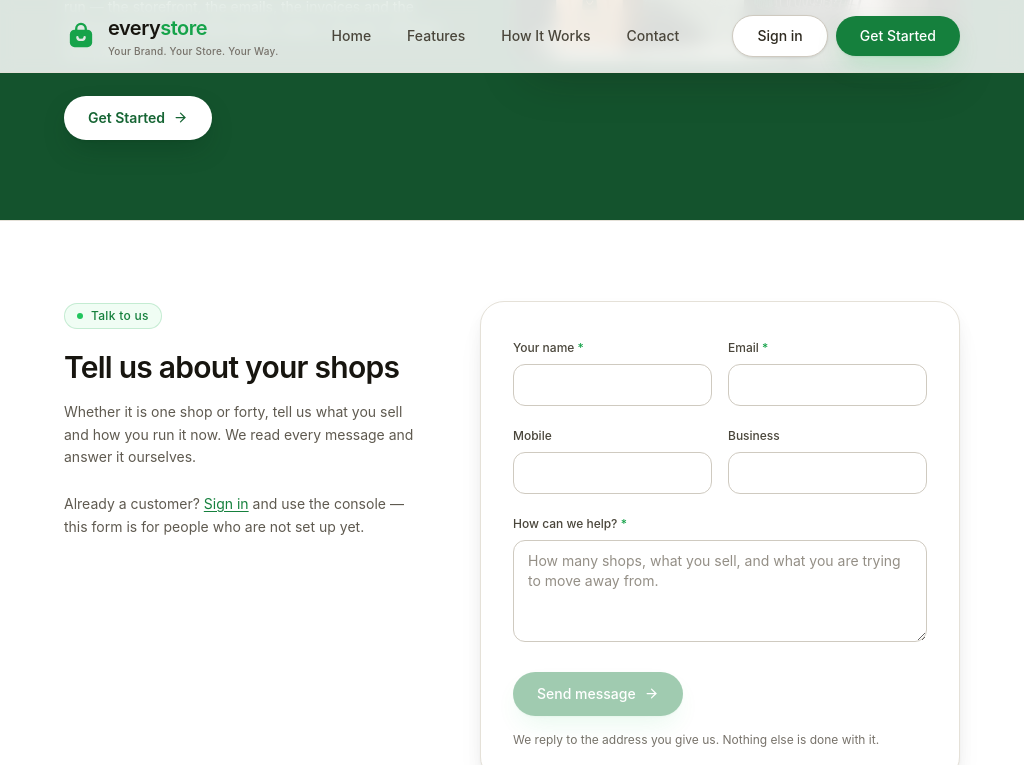
the contact form on the landing page › replaces the form with a confirmation naming the address it will reply to
(page scrolled)
Type "Priya Raman" into the field labelled "Your name *" at (612, 385), box [513,364,712,406]
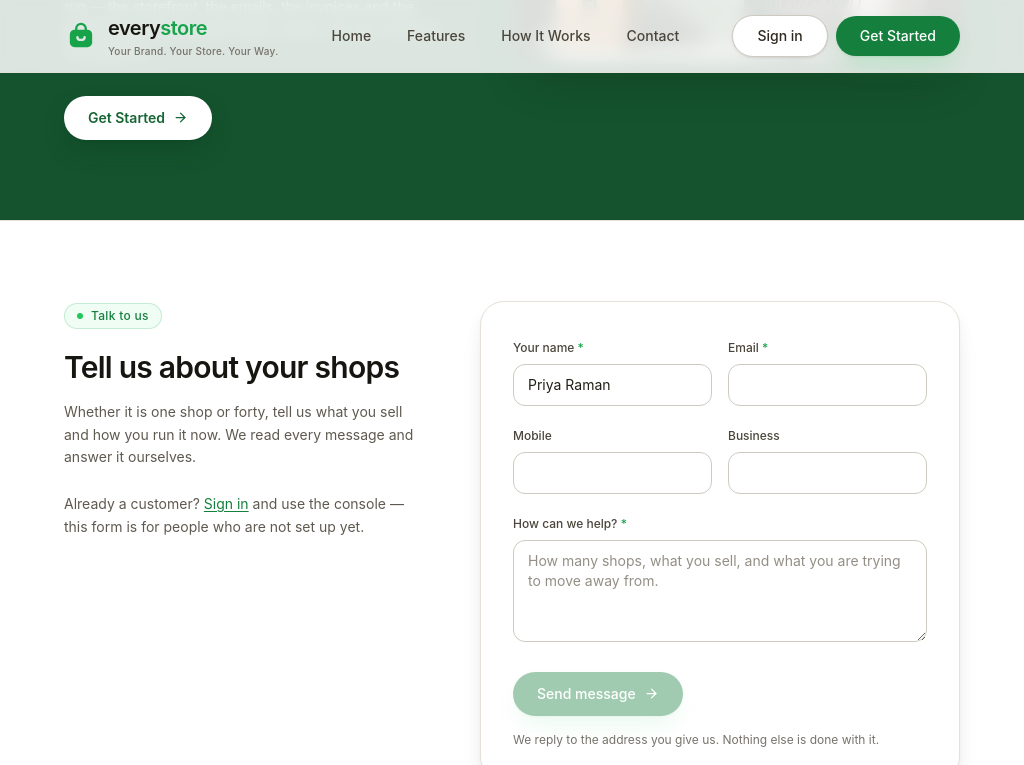
Type "priya@northwind.example" into the field labelled "Email *" at (828, 385), box [728,364,927,406]
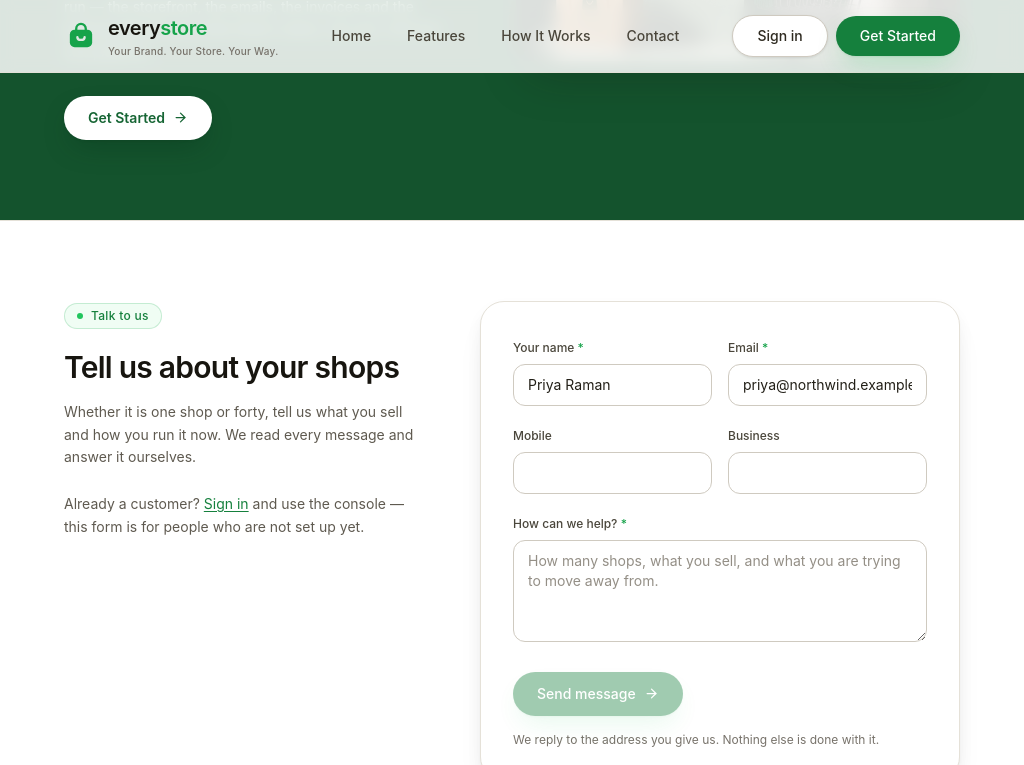
Replace the text in the text box labelled "How can we help? *" with "We run four shops and would like a demo." at (720, 591), box [513,540,927,642]
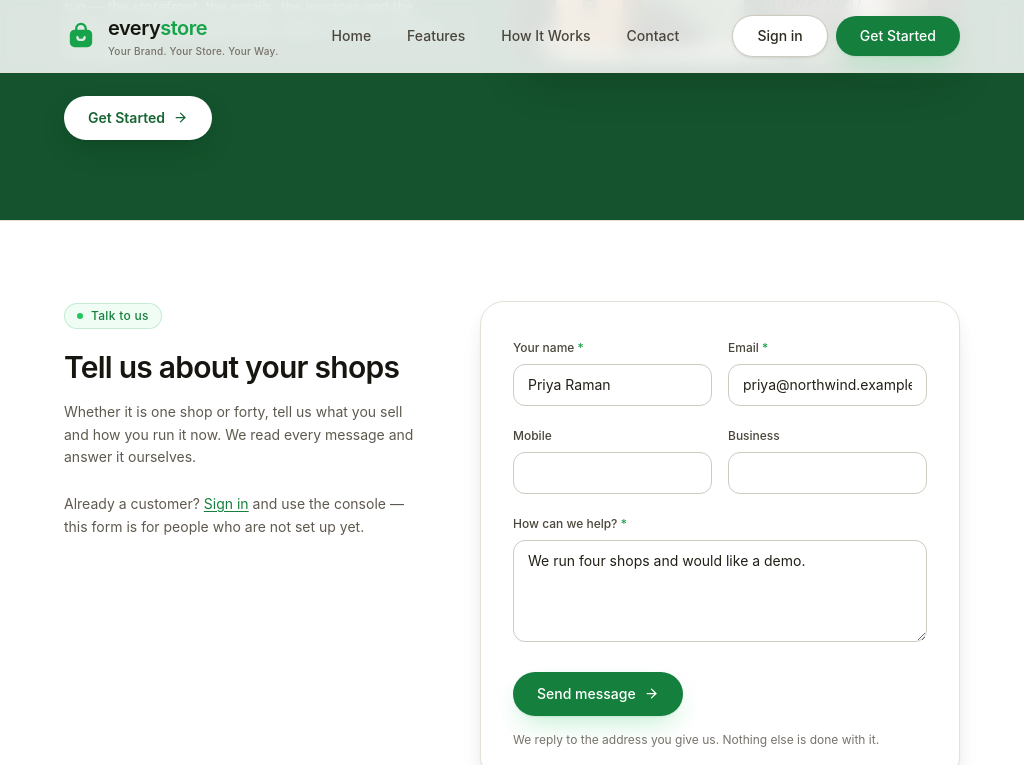
Click the button "Send message" at (598, 694), box [513,672,683,716]
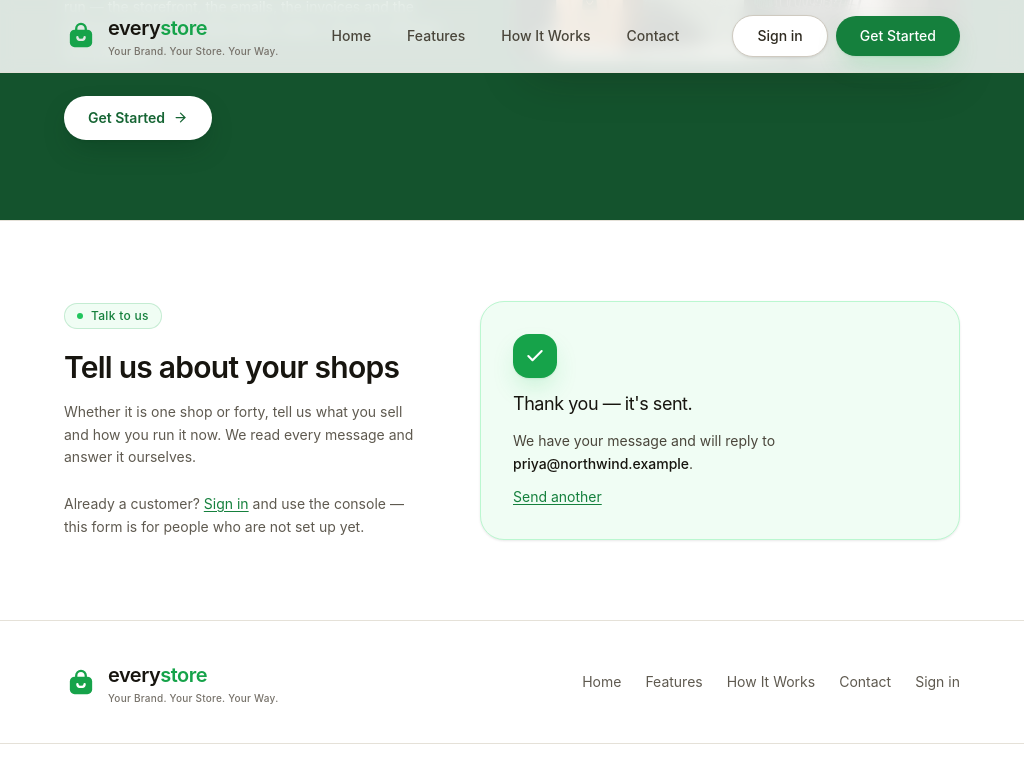
Expected: the heading "Thank you — it's sent." is shown, [513,390,692,418]
Expected: the text "priya@northwind.example" is shown, [513,454,689,472]
Expected: the button "Send message" is gone
